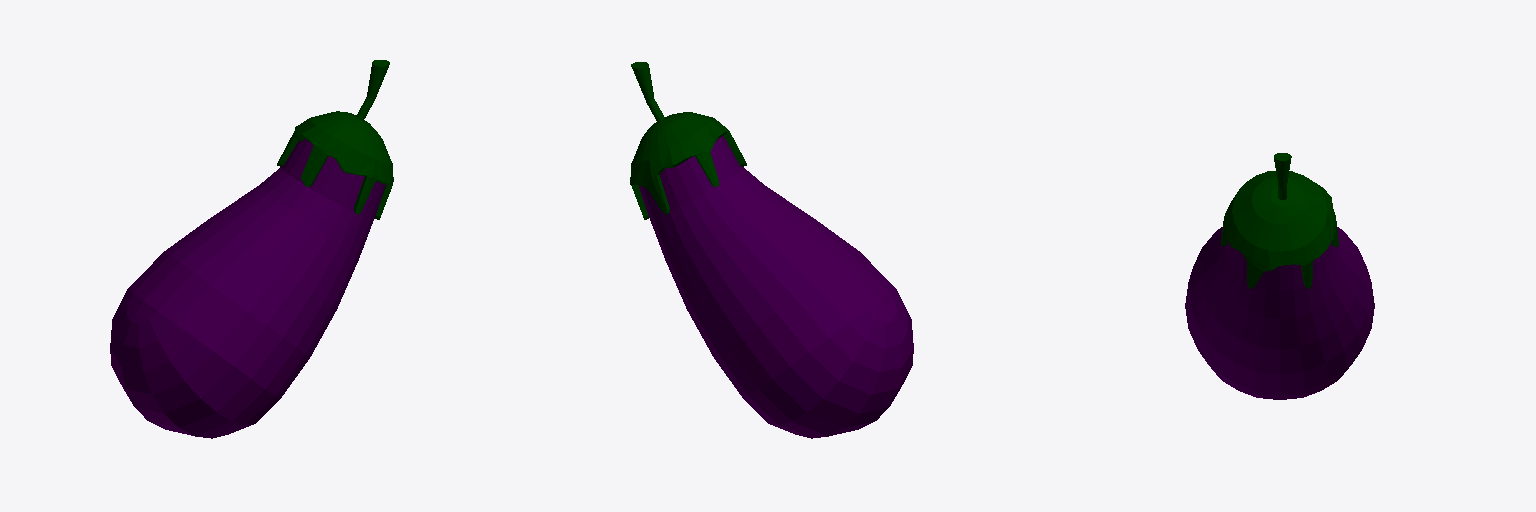
Rendered from BRINJAL.obj.
The picture shows the model from 3 angles: view 1: azimuth 30°, elevation 25°; view 2: azimuth 150°, elevation 25°; view 3: azimuth 270°, elevation 25°; orthographic projection.
Visible parts, largest first — view 1: Sphere.002; view 2: Sphere.002; view 3: Sphere.002.
Boxes of the visible parts, <box> form: Sphere.002: <box>110,60,393,438</box>; Sphere.002: <box>630,62,913,438</box>; Sphere.002: <box>1185,153,1374,399</box>.
Size of the model in its own units: 0.8243 by 0.9465 by 0.5045.